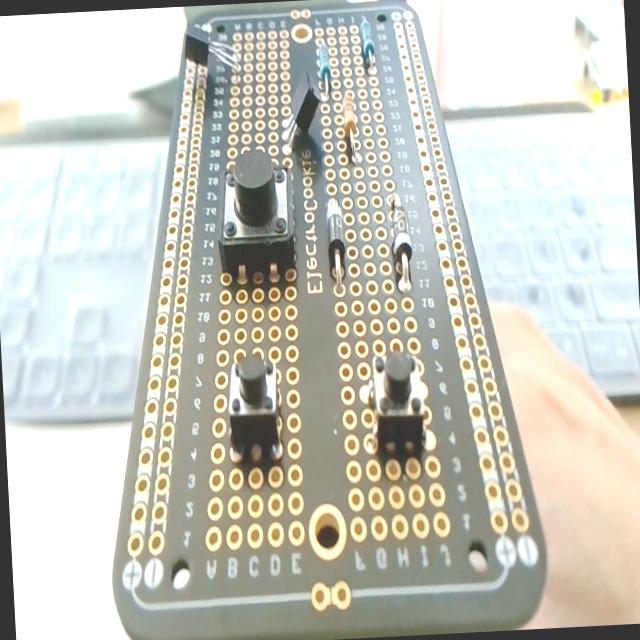diode: (388, 192, 414, 290), (324, 194, 350, 290)
resistor: (342, 90, 359, 164), (359, 16, 376, 74), (317, 43, 333, 95)
switch: (214, 150, 297, 284), (368, 347, 429, 459), (226, 350, 284, 463)
transistor: (278, 68, 326, 156), (184, 23, 242, 77)
